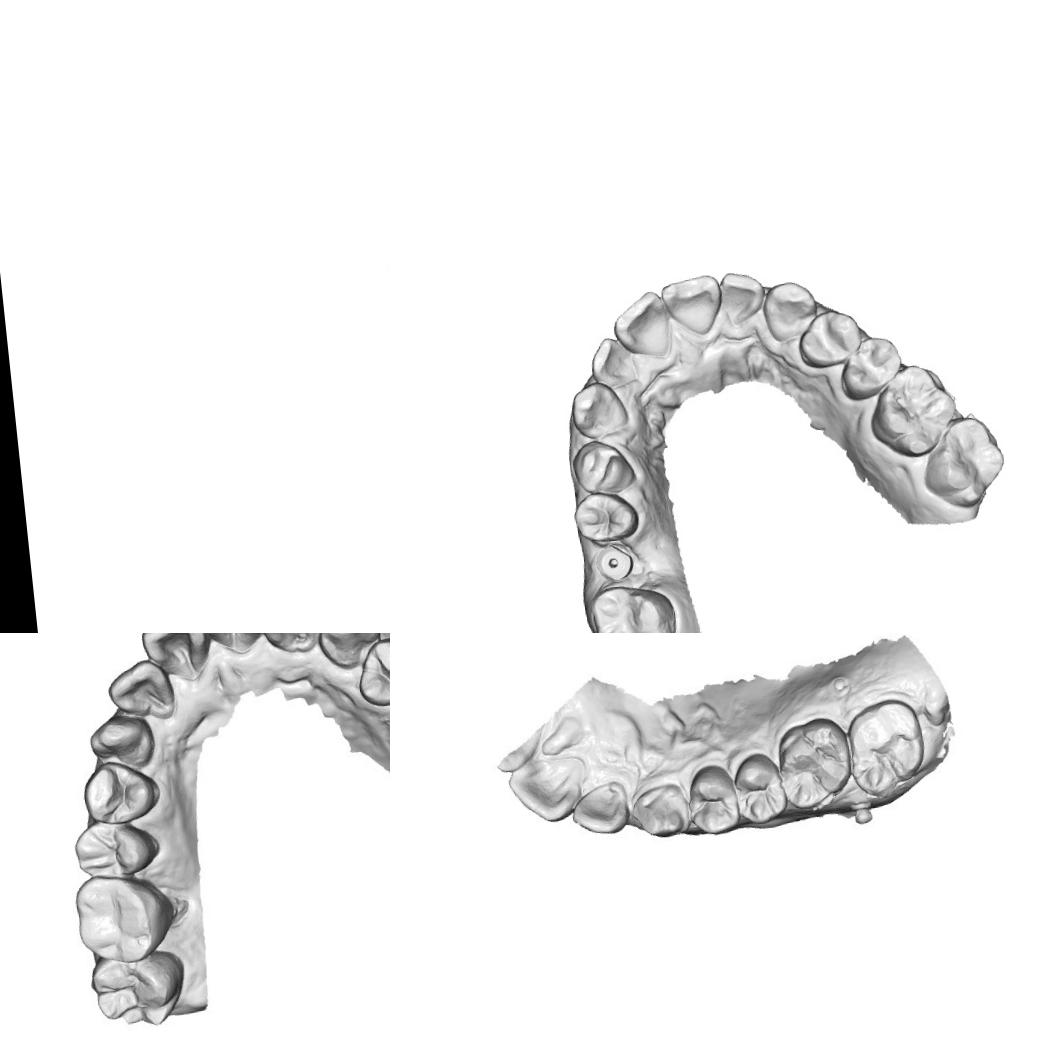canine: (87, 712, 163, 774), (757, 276, 820, 347), (626, 780, 692, 844), (566, 379, 632, 442), (311, 633, 384, 676)
implant: (590, 541, 636, 582)
incisor: (502, 752, 594, 828), (102, 656, 180, 725), (606, 288, 676, 360), (656, 269, 724, 341), (135, 633, 212, 685), (568, 778, 632, 839), (714, 268, 766, 327), (586, 333, 640, 387), (201, 633, 267, 656), (263, 633, 321, 655)
molar: (71, 869, 185, 966), (916, 410, 1009, 516), (842, 694, 931, 801), (865, 361, 958, 462), (88, 948, 194, 1032), (772, 714, 856, 814), (584, 580, 679, 633)
premolar: (73, 814, 165, 888), (79, 758, 163, 828), (834, 330, 908, 400), (729, 748, 789, 826), (566, 436, 639, 500), (682, 761, 742, 838), (794, 306, 866, 370), (574, 489, 642, 545), (357, 633, 390, 708)
